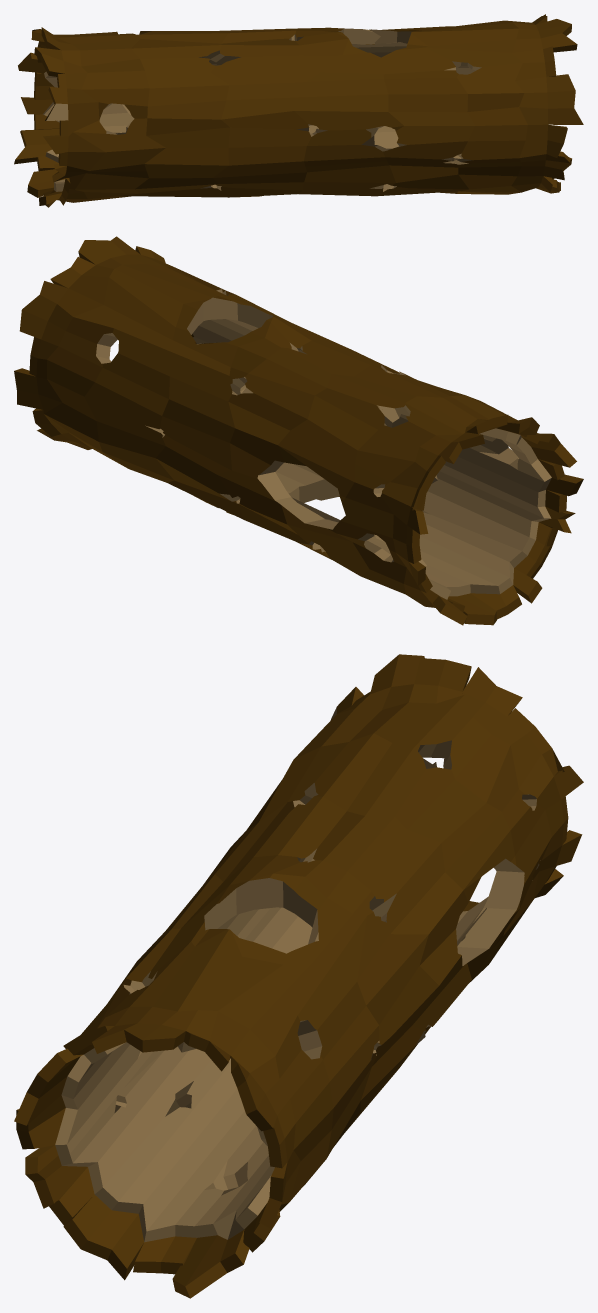
The model's file is big hollow fallen tree.fbx.
The picture shows the model from 3 angles, top to bottom: view 1: azimuth 30°, elevation 25°; view 2: azimuth 150°, elevation 25°; view 3: azimuth 270°, elevation 25°; orthographic projection. The views are drawn at different scales.
Visible parts, largest first — view 1: hollow log bridge w/ LOTS of holes.001; view 2: hollow log bridge w/ LOTS of holes.001; view 3: hollow log bridge w/ LOTS of holes.001.
Boxes of the visible parts, x1,y1,x2,y2 form: hollow log bridge w/ LOTS of holes.001: (14,14,583,207); hollow log bridge w/ LOTS of holes.001: (14,236,583,625); hollow log bridge w/ LOTS of holes.001: (14,654,583,1298).
Bounding box in the file's own units: 2753 × 1032 × 1749.
